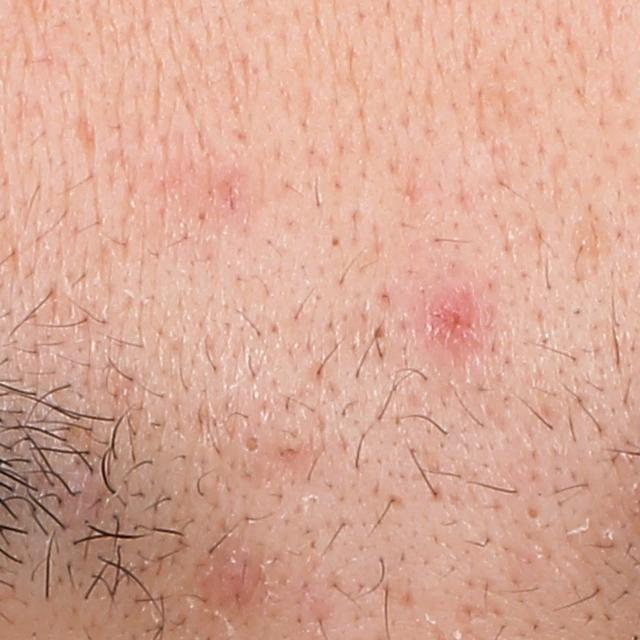comedo: (243, 434, 265, 456), (524, 500, 544, 523)
papule: (433, 289, 480, 346)
